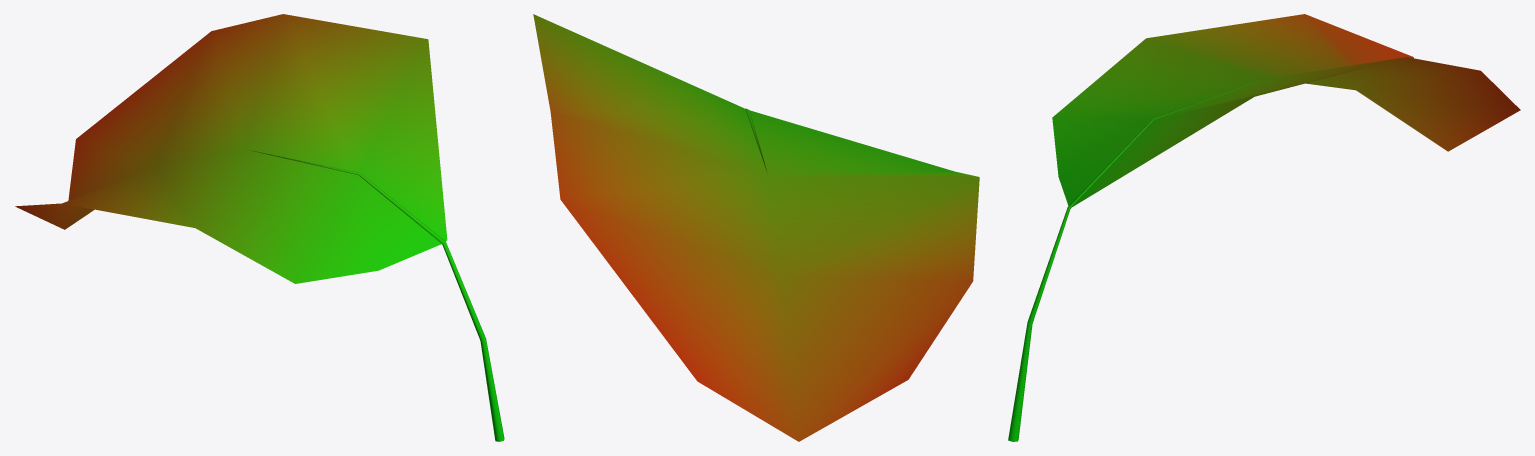
Rendered from Lady Fern_LOD3_Var13_wdvlditia.fbx.
3 views of the same model, side by side, from view 1: azimuth 30°, elevation 25°; view 2: azimuth 150°, elevation 25°; view 3: azimuth 270°, elevation 25° (orthographic). The views are drawn at different scales.
Visible parts, largest first — view 1: _jbr0_Var13_LOD3; view 2: _jbr0_Var13_LOD3; view 3: _jbr0_Var13_LOD3.
Part boxes in pixels (box(x1,y1,x2,y2)): _jbr0_Var13_LOD3: box(15, 14, 504, 441); _jbr0_Var13_LOD3: box(533, 14, 979, 441); _jbr0_Var13_LOD3: box(1008, 14, 1520, 441).
Bounding box in the file's own units: 16.92 × 14.82 × 19.
